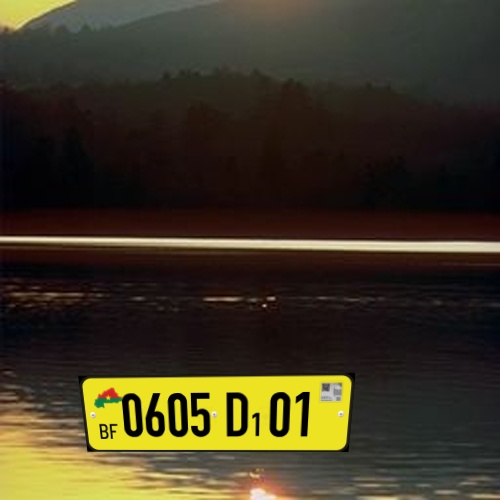plate: (69, 364, 364, 459)
